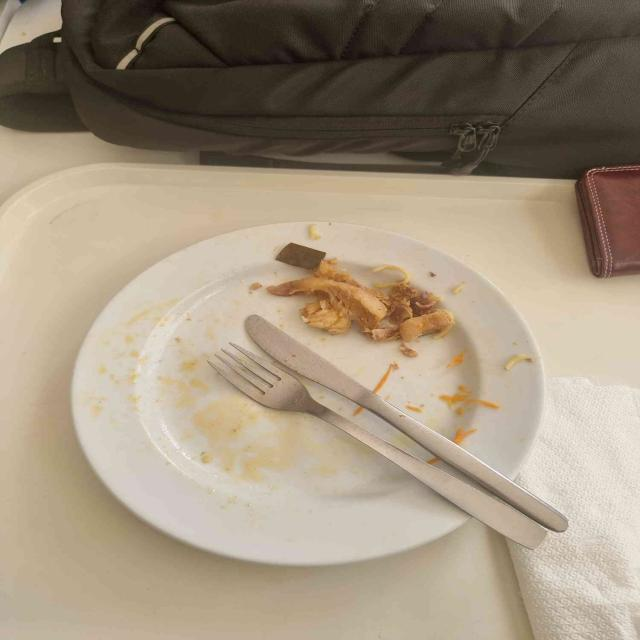fork: (208, 344, 547, 548)
garbage: (266, 260, 454, 343), (275, 243, 326, 271)
knife: (245, 315, 567, 531)
plate: (71, 222, 544, 564)
